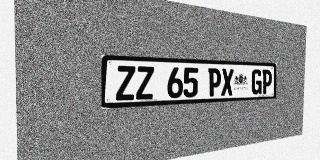5: (183, 67, 198, 98)
6: (167, 67, 183, 98)
G: (251, 69, 262, 94)
P: (208, 68, 221, 96), (262, 70, 272, 94)
X: (221, 68, 234, 96)
Z: (116, 65, 135, 101), (136, 66, 154, 100)
